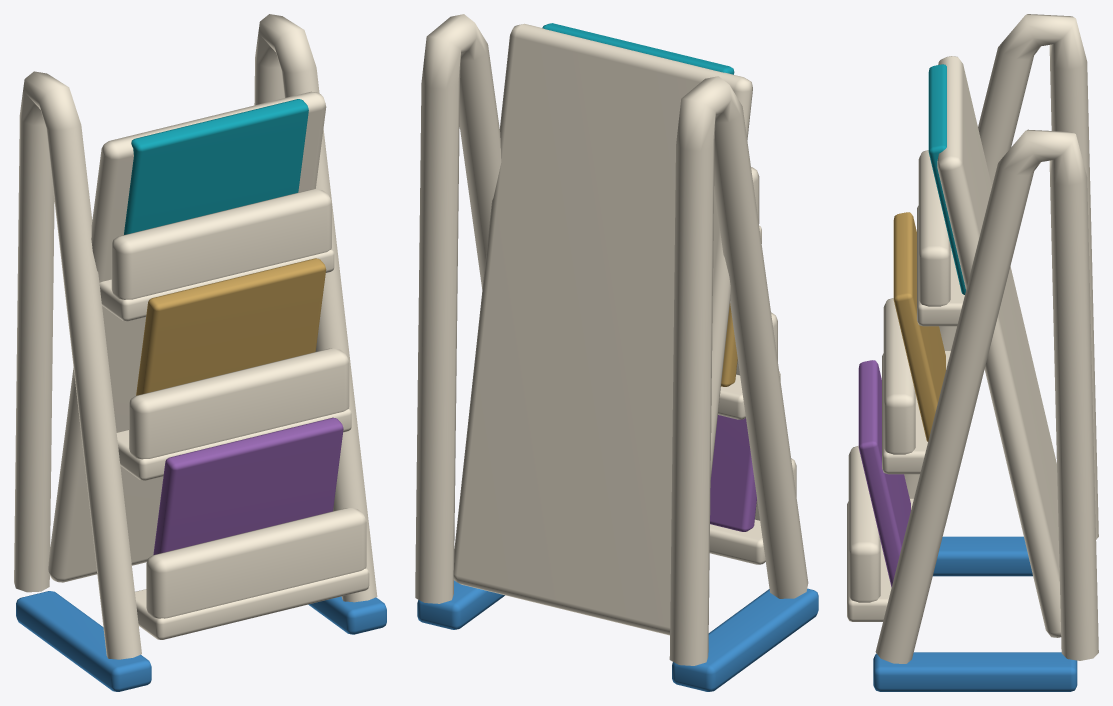
Rendered from Reception_Magazine_Rack.glb.
3 renders of one model, left to right at view 1: azimuth 30°, elevation 25°; view 2: azimuth 150°, elevation 25°; view 3: azimuth 270°, elevation 25°, orthographic. The views are drawn at different scales.
Visible parts, largest first — view 1: Reception_Magazine_Rack__Visual, Reception_Magazine_Rack__Graphics; view 2: Reception_Magazine_Rack__Visual, Reception_Magazine_Rack__Graphics; view 3: Reception_Magazine_Rack__Visual, Reception_Magazine_Rack__Graphics.
Part boxes in pixels (<box>): Reception_Magazine_Rack__Visual: <box>14,14,386,691</box>; Reception_Magazine_Rack__Graphics: <box>136,258,326,395</box>; Reception_Magazine_Rack__Visual: <box>415,14,818,691</box>; Reception_Magazine_Rack__Graphics: <box>721,303,737,386</box>; Reception_Magazine_Rack__Visual: <box>847,14,1098,691</box>; Reception_Magazine_Rack__Graphics: <box>893,212,945,441</box>.
Size of the model in its own units: 0.55 by 1.05 by 0.432.
2 materials, 2 textured.
